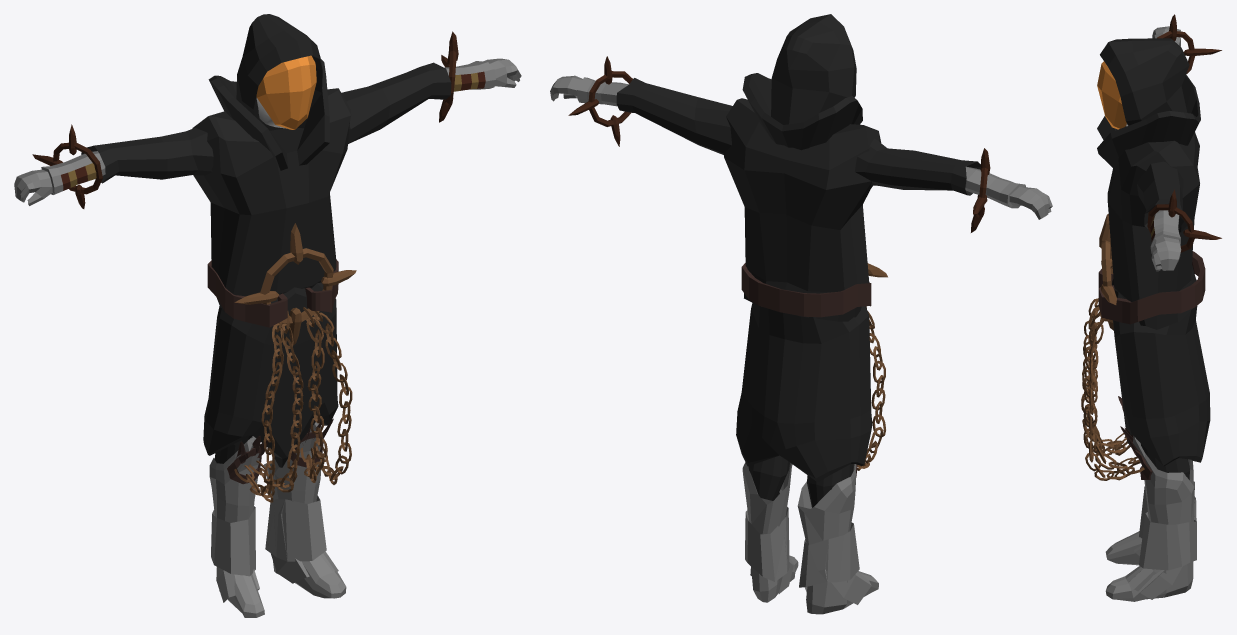
The model's file is locharguide.fbx.
3 renders of one model, left to right at view 1: azimuth 30°, elevation 25°; view 2: azimuth 150°, elevation 25°; view 3: azimuth 270°, elevation 25°, orthographic. The views are drawn at different scales.
Visible parts, largest first — view 1: polySurface125; view 2: polySurface125; view 3: polySurface125.
Part boxes in pixels (left/top/right/bottom): polySurface125: left=14, top=14, right=521, bottom=617; polySurface125: left=550, top=14, right=1052, bottom=614; polySurface125: left=1081, top=14, right=1221, bottom=601.
Bounding box in the file's own units: 2642 × 2891 × 690.
